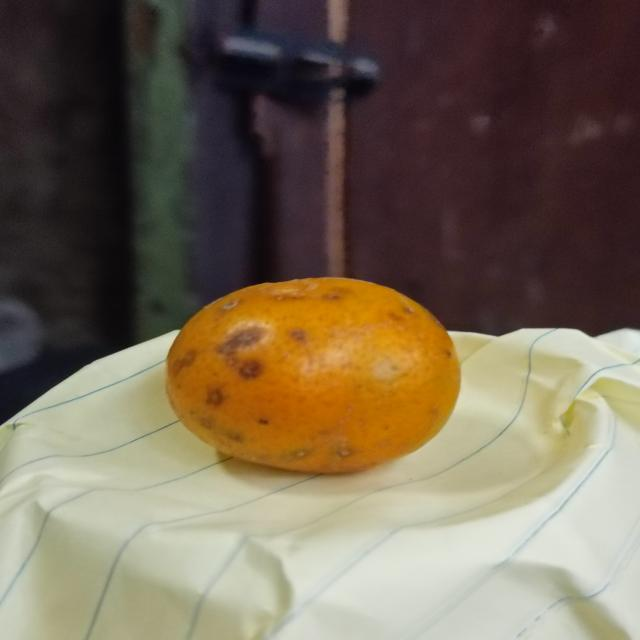black spot: (157, 273, 467, 486)
